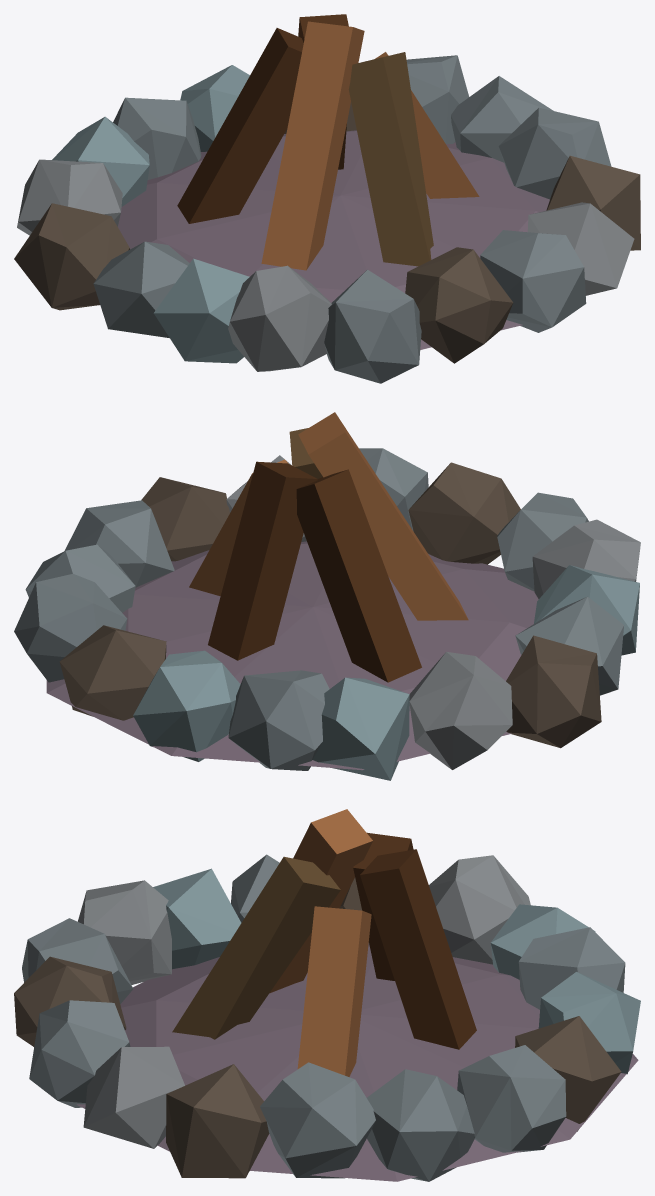
Rendered from Campfire.fbx.
3 renders of one model, top to bottom at view 1: azimuth 30°, elevation 25°; view 2: azimuth 150°, elevation 25°; view 3: azimuth 270°, elevation 25°, orthographic. The views are drawn at different scales.
Parts seen in each view (by area): view 1: Ashes, Firewood.004, Firewood.001, Firewood.003, Rock3.005, Rock1.002, Rock3.003, Rock1.004, Rock3.002, Rock2.004, Rock3.001, Rock2.005 (+10 smaller); view 2: Ashes, Firewood.003, Firewood.002, Firewood.004, Rock3.004, Rock1.004, Rock1.003, Rock1, Rock3.003, Rock2.003, Rock2, Rock3 (+10 smaller); view 3: Ashes, Firewood.002, Firewood.001, Firewood, Rock3.001, Rock2.001, Rock1.001, Rock3, Rock2.002, Rock3.002, Rock3.004, Rock3.005 (+10 smaller).
Boxes of the visible parts, left/top/right/bottom form: Ashes: left=118, top=130, right=549, bottom=349; Firewood.004: left=261, top=21, right=364, bottom=270; Firewood.001: left=348, top=52, right=433, bottom=266; Firewood.003: left=177, top=28, right=303, bottom=223; Rock3.005: left=228, top=265, right=331, bottom=371; Rock1.002: left=324, top=269, right=421, bottom=383; Rock3.003: left=405, top=247, right=513, bottom=363; Rock1.004: left=14, top=203, right=129, bottom=310; Rock3.002: left=480, top=230, right=586, bottom=332; Rock2.004: left=153, top=258, right=249, bottom=363; Rock3.001: left=498, top=107, right=611, bottom=199; Rock2.005: left=93, top=241, right=189, bottom=337; Ashes: left=46, top=541, right=538, bottom=770; Firewood.003: left=296, top=469, right=421, bottom=682; Firewood.002: left=208, top=461, right=317, bottom=660; Firewood.004: left=298, top=412, right=468, bottom=620; Rock3.004: left=409, top=652, right=512, bottom=769; Rock1.004: left=506, top=635, right=601, bottom=748; Rock1.003: left=228, top=670, right=329, bottom=770; Rock1: left=133, top=650, right=240, bottom=761; Rock3.003: left=408, top=462, right=520, bottom=564; Rock2.003: left=312, top=677, right=409, bottom=780; Rock2: left=59, top=625, right=166, bottom=720; Rock3: left=14, top=574, right=127, bottom=682; Ashes: left=77, top=943, right=638, bottom=1181; Firewood.002: left=360, top=849, right=476, bottom=1049; Firewood.001: left=172, top=856, right=340, bottom=1039; Firewood: left=297, top=906, right=371, bottom=1076; Rock3.001: left=260, top=1062, right=375, bottom=1178; Rock2.001: left=166, top=1064, right=269, bottom=1178; Rock1.001: left=367, top=1069, right=474, bottom=1181; Rock3: left=457, top=1045, right=566, bottom=1152; Rock2.002: left=83, top=1046, right=184, bottom=1148; Rock3.002: left=29, top=1000, right=130, bottom=1107; Rock3.004: left=429, top=855, right=530, bottom=964; Rock3.005: left=78, top=880, right=171, bottom=984.
Size of the model in its own units: 111 by 48.98 by 107.
Materials: 1 (1 with a texture image).
